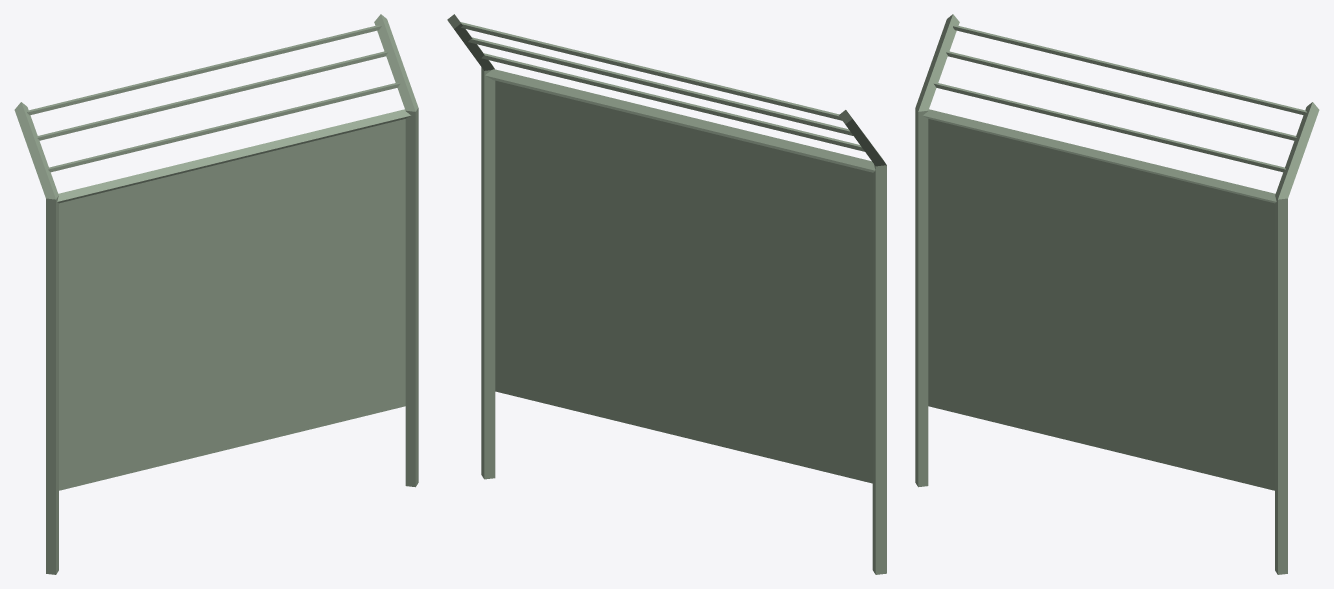
File: fence_01.fbx
3 views of the same model, side by side, from view 1: azimuth 30°, elevation 25°; view 2: azimuth 150°, elevation 25°; view 3: azimuth 330°, elevation 25° (orthographic). The views are drawn at different scales.
Parts seen in each view (by area): view 1: fence_01; view 2: fence_01; view 3: fence_01.
Part boxes in pixels (<box>): fence_01: <box>14,14,418,574</box>; fence_01: <box>447,14,886,574</box>; fence_01: <box>915,14,1319,574</box>.
Size of the model in its own units: 4.89 by 5.62 by 0.8049.
